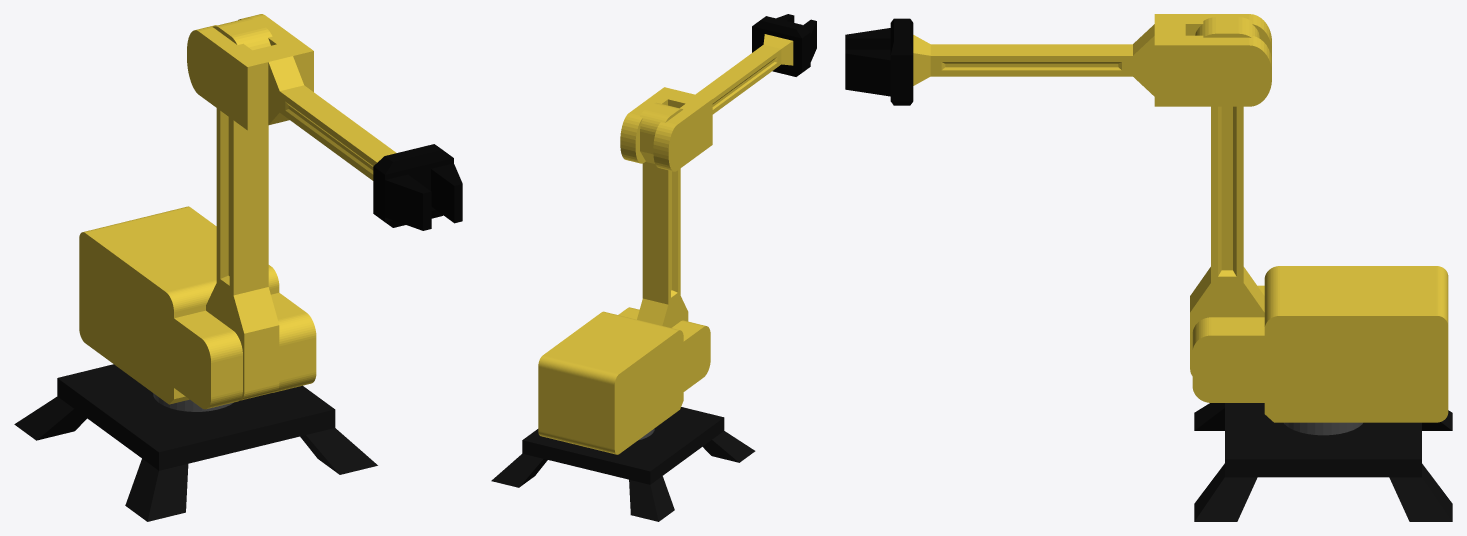
The model's file is handler.fbx.
3 views of the same model, side by side, from view 1: azimuth 30°, elevation 25°; view 2: azimuth 150°, elevation 25°; view 3: azimuth 270°, elevation 25° (orthographic). The views are drawn at different scales.
Parts seen in each view (by area): view 1: Body, Platform, Arm1, Arm2, Catch; view 2: Body, Platform, Arm2, Arm1, Catch; view 3: Body, Arm2, Platform, Arm1, Catch, Axis.
Part boxes in pixels (left/top/right/bottom): Body: left=79, top=206, right=316, bottom=409; Platform: left=14, top=364, right=377, bottom=521; Arm1: left=206, top=17, right=279, bottom=400; Arm2: left=187, top=14, right=396, bottom=180; Catch: left=373, top=144, right=462, bottom=230; Body: left=538, top=307, right=710, bottom=454; Platform: left=491, top=407, right=755, bottom=521; Arm2: left=620, top=34, right=793, bottom=171; Arm1: left=637, top=102, right=688, bottom=327; Catch: left=752, top=14, right=816, bottom=76; Body: left=1192, top=266, right=1448, bottom=422; Arm2: left=913, top=14, right=1271, bottom=106; Platform: left=1194, top=403, right=1452, bottom=521; Arm1: left=1190, top=17, right=1264, bottom=375; Catch: left=845, top=18, right=913, bottom=105; Axis: left=1284, top=422, right=1362, bottom=435.
Bounding box in the file's own units: 262 × 493 × 616.
